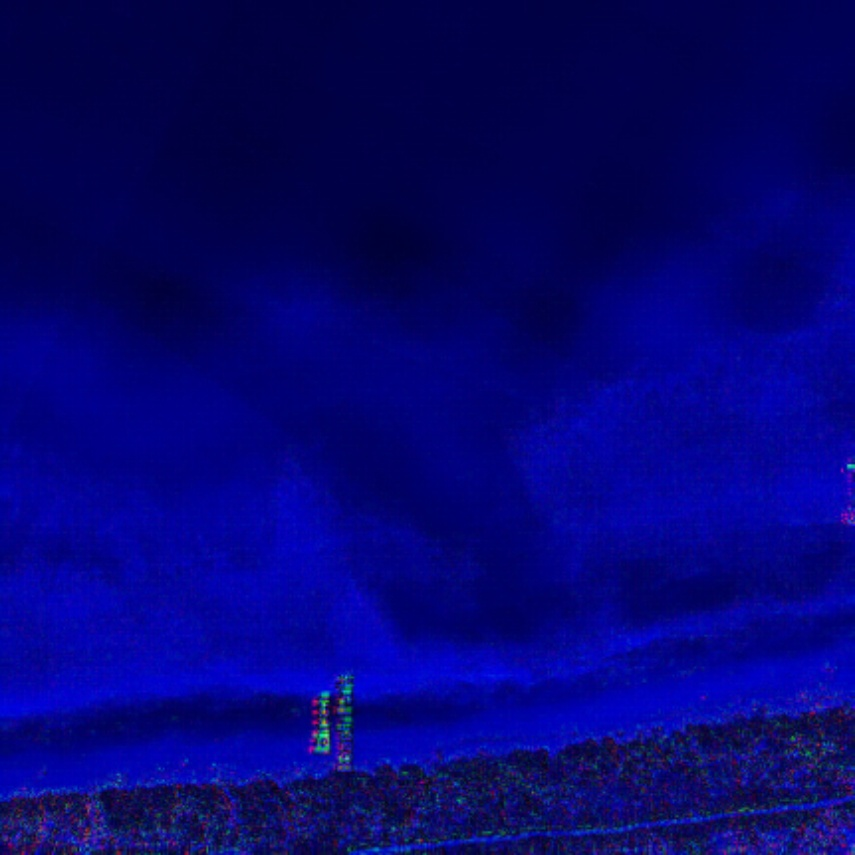rip_current: (224, 235, 675, 640)
